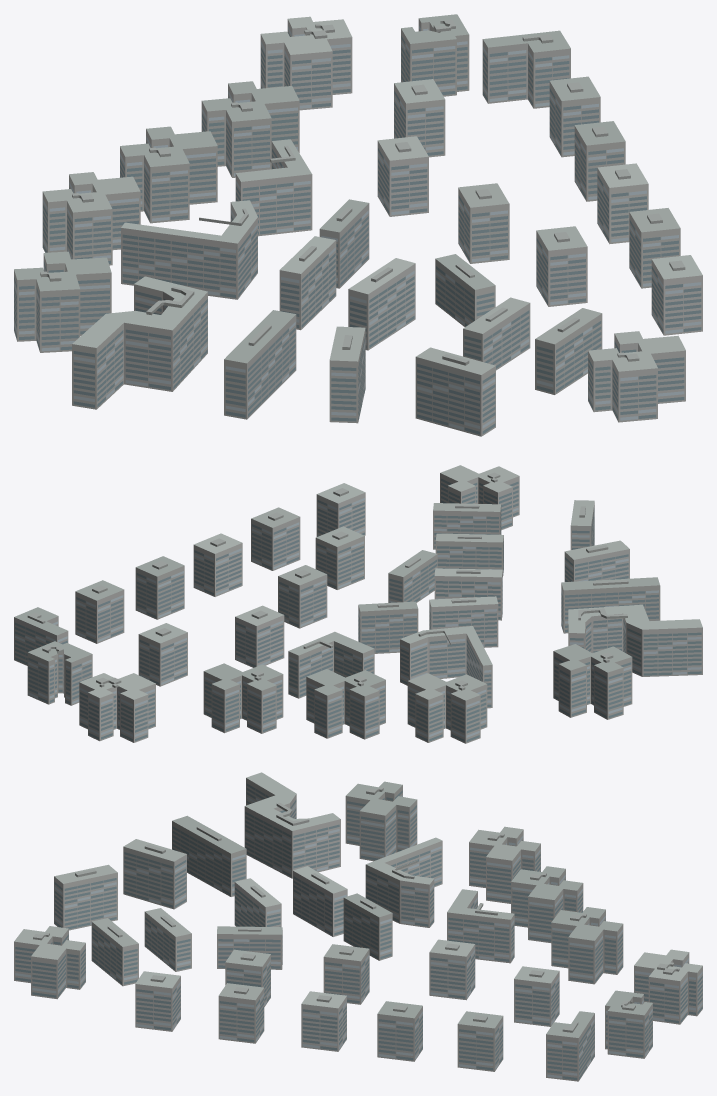
Rendered from apt-a13520002.glb.
3 renders of one model, top to bottom at view 1: azimuth 30°, elevation 25°; view 2: azimuth 150°, elevation 25°; view 3: azimuth 270°, elevation 25°, orthographic. The views are drawn at different scales.
Parts seen in each view (by area): view 1: apt-a13520002; view 2: apt-a13520002; view 3: apt-a13520002.
Part boxes in pixels (x1,y1,x2,y2): apt-a13520002: [14, 14, 702, 436]; apt-a13520002: [14, 465, 702, 743]; apt-a13520002: [14, 772, 702, 1081].
Bounding box in the file's own units: 382 × 34 × 425.
